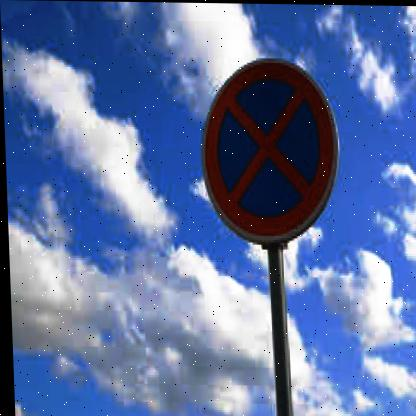No stopping: (198, 55, 340, 249)
